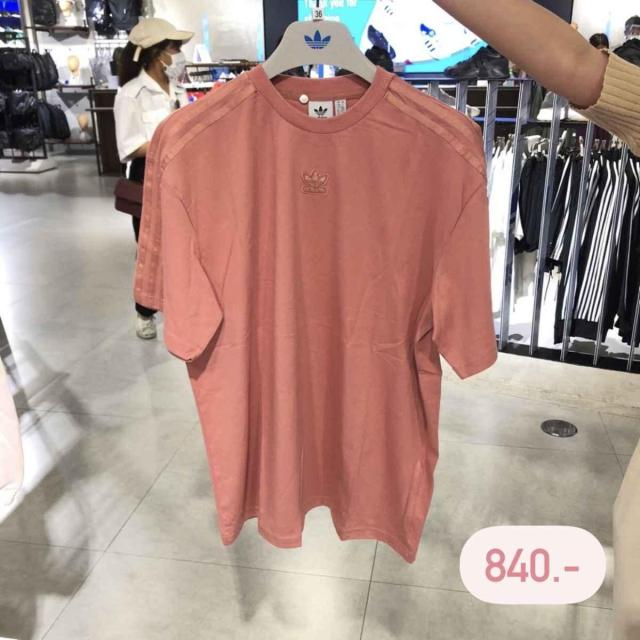Tshirt: (130, 54, 502, 563)
